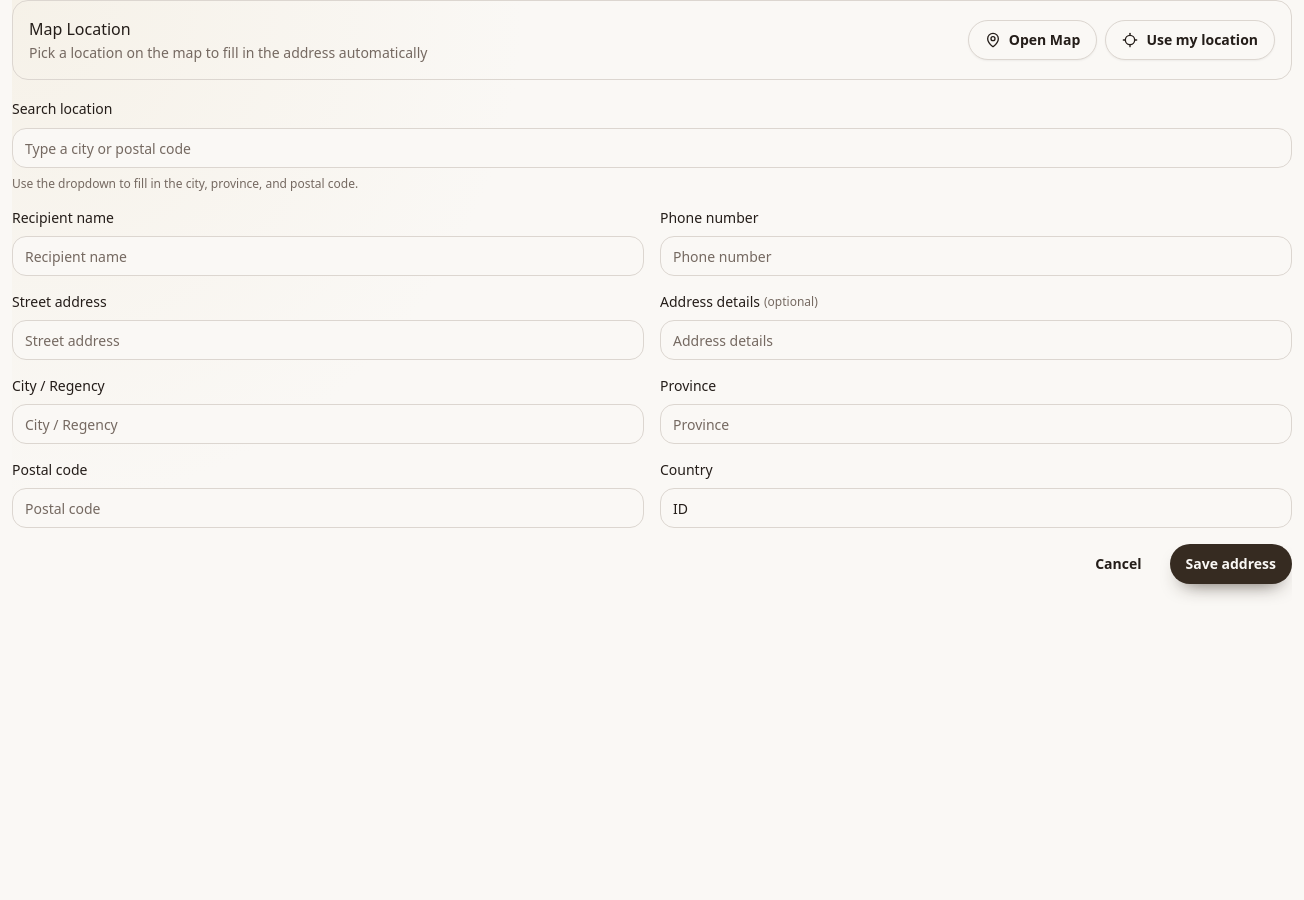
Test: AddressForm › renders labels and validation errors in English
The image size is (1304, 900).
Expected: the heading "Map Location" is shown, x1=29 y1=18 x2=131 y2=40
Expected: the button "Open Map" is shown, x1=968 y1=20 x2=1097 y2=60
Click the button "Save address" at (1231, 564), box x1=1170 y1=544 x2=1292 y2=584
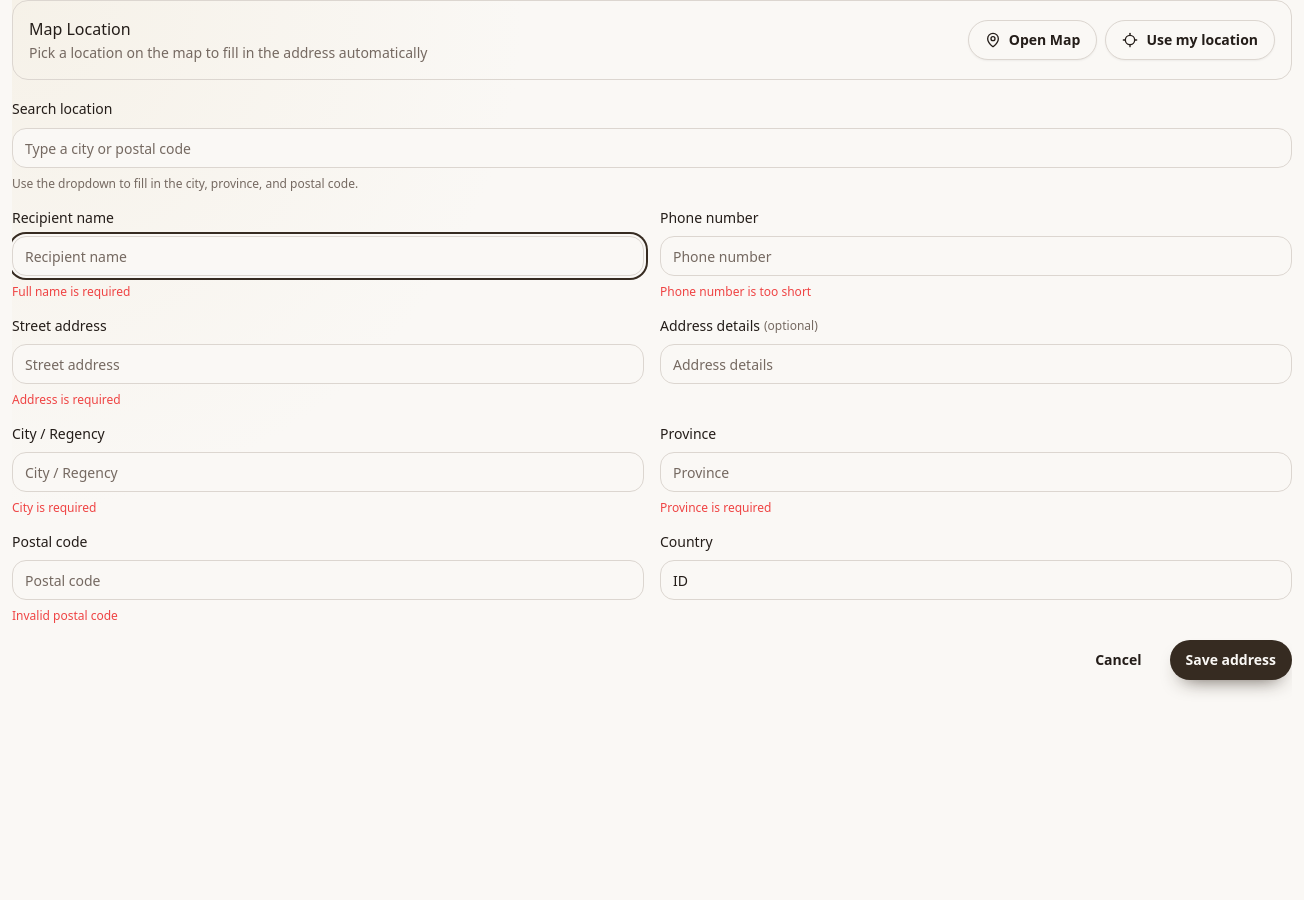
Expected: the text "Full name is required" is shown, x1=12 y1=283 x2=130 y2=300
Expected: the text "Phone number is too short" is shown, x1=660 y1=283 x2=811 y2=300
